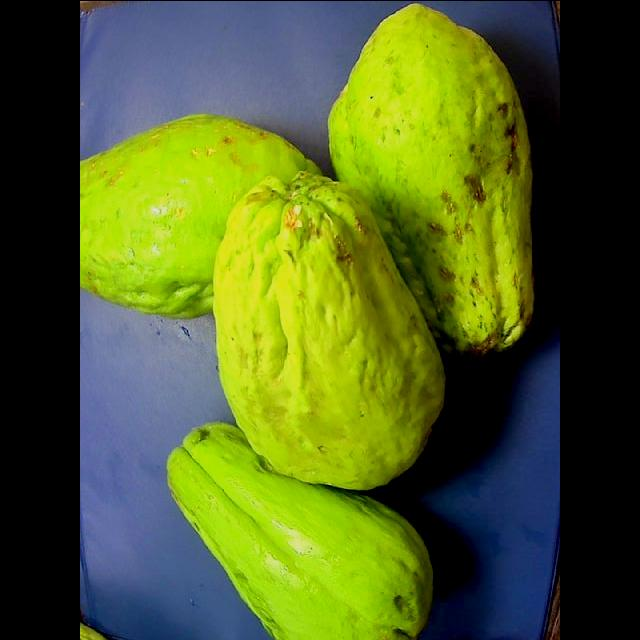chayote: (213, 171, 445, 488), (329, 2, 532, 359), (168, 421, 433, 639), (80, 113, 320, 317)
